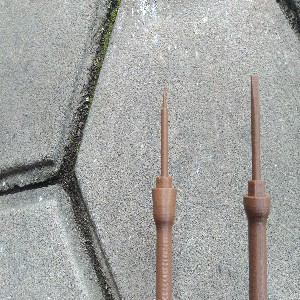obeng: (242, 73, 272, 300)
solder: (151, 91, 177, 300)
